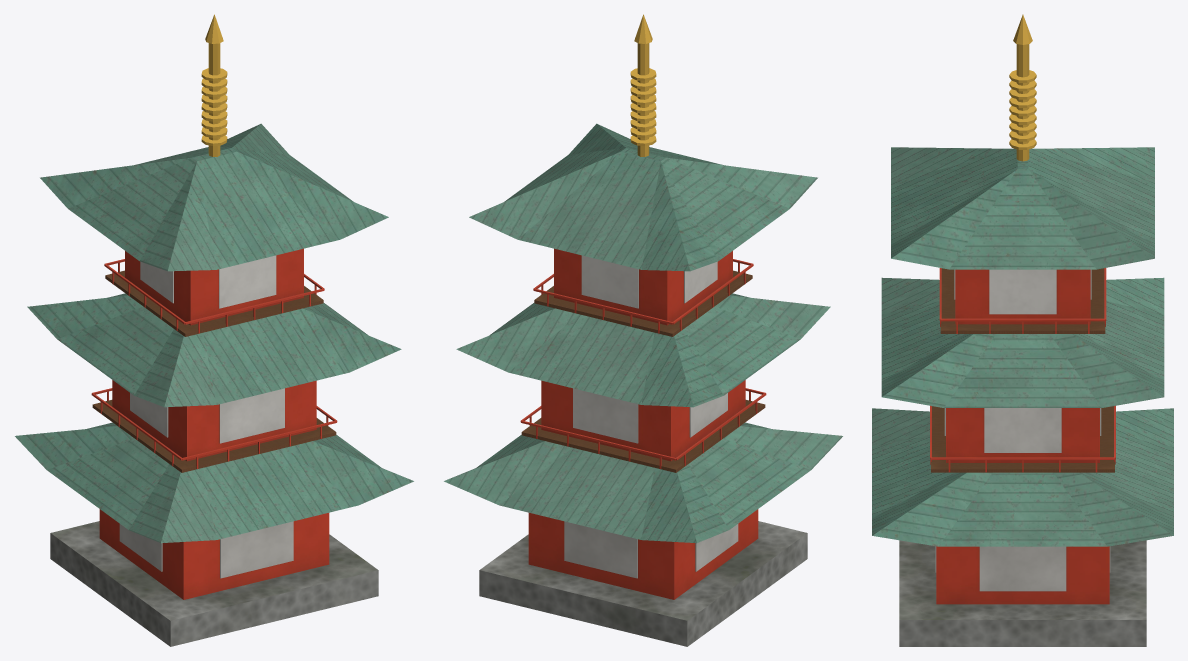
File: pagod3_tex.glb
The picture shows the model from 3 angles, left to right: view 1: azimuth 30°, elevation 25°; view 2: azimuth 150°, elevation 25°; view 3: azimuth 270°, elevation 25°; orthographic projection. The views are drawn at different scales.
Visible parts, largest first — view 1: pagod3; view 2: pagod3; view 3: pagod3.
Boxes of the visible parts, x1,y1,x2,y2 form: pagod3: [15, 14, 413, 646]; pagod3: [444, 14, 842, 646]; pagod3: [872, 14, 1173, 646].
Bounding box in the file's own units: 12.2 × 25.9 × 12.2.
6 materials, 5 textured.
